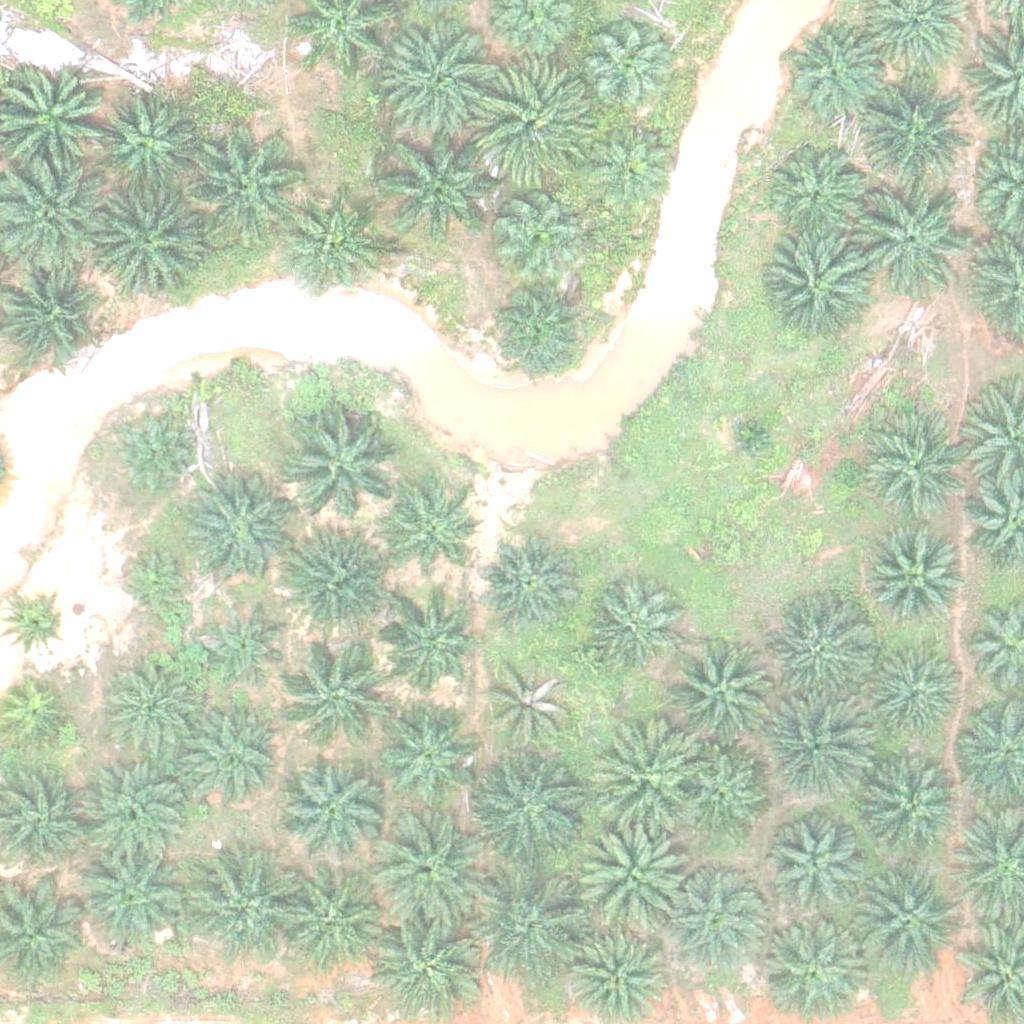Kelapa_Sawit: (848, 865, 961, 979), (88, 185, 201, 299), (759, 234, 872, 347), (760, 692, 873, 805), (285, 403, 398, 516), (179, 476, 292, 589), (77, 754, 190, 867), (74, 842, 187, 955), (476, 64, 589, 177), (284, 634, 396, 748), (182, 851, 294, 965), (859, 71, 971, 185), (388, 25, 500, 139), (851, 182, 963, 295), (665, 636, 777, 749), (588, 719, 700, 832), (575, 817, 687, 930), (477, 872, 589, 985), (473, 751, 585, 864), (377, 127, 489, 240), (371, 813, 483, 926), (272, 870, 384, 983), (275, 531, 387, 644), (188, 127, 300, 240), (766, 144, 866, 245), (766, 822, 866, 923), (667, 866, 767, 967), (581, 577, 681, 678), (377, 597, 477, 698), (279, 759, 379, 860), (179, 710, 279, 811), (95, 91, 195, 192), (785, 24, 885, 125), (866, 422, 966, 522), (867, 531, 967, 631), (867, 647, 967, 747), (863, 763, 963, 863), (769, 607, 869, 707), (487, 279, 587, 379), (478, 532, 578, 632), (377, 701, 477, 801), (284, 200, 384, 300), (102, 658, 202, 758), (677, 750, 765, 838), (491, 186, 579, 274), (202, 604, 290, 692), (107, 412, 195, 500), (588, 121, 676, 209), (487, 663, 574, 751), (389, 493, 476, 581), (586, 29, 673, 117), (119, 543, 194, 618), (4, 594, 67, 657), (724, 409, 774, 460)
